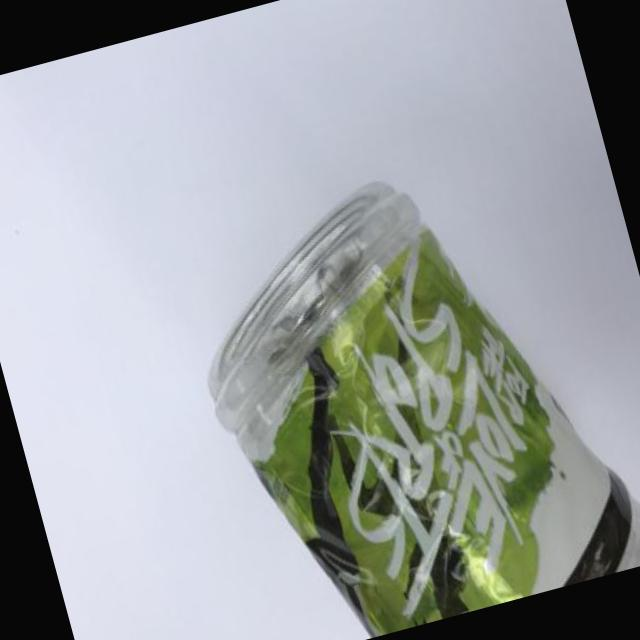Trash: (162, 135, 640, 640)
